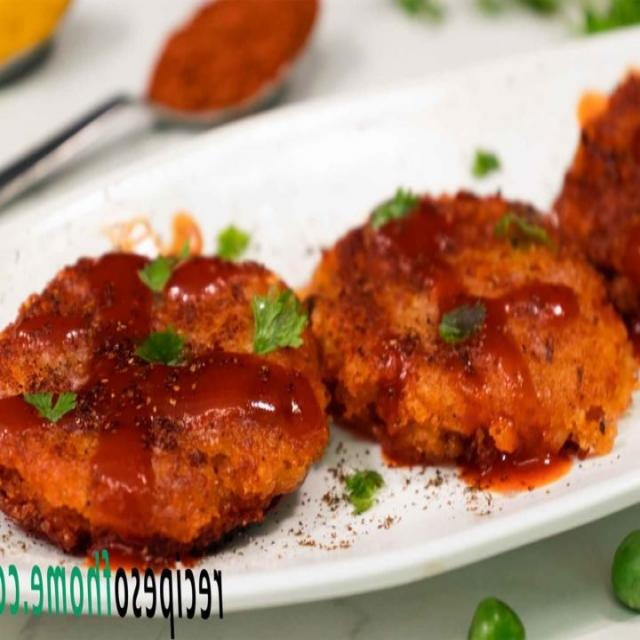Aloo Tikki: (0, 256, 326, 556), (304, 199, 640, 464), (553, 67, 640, 310)
